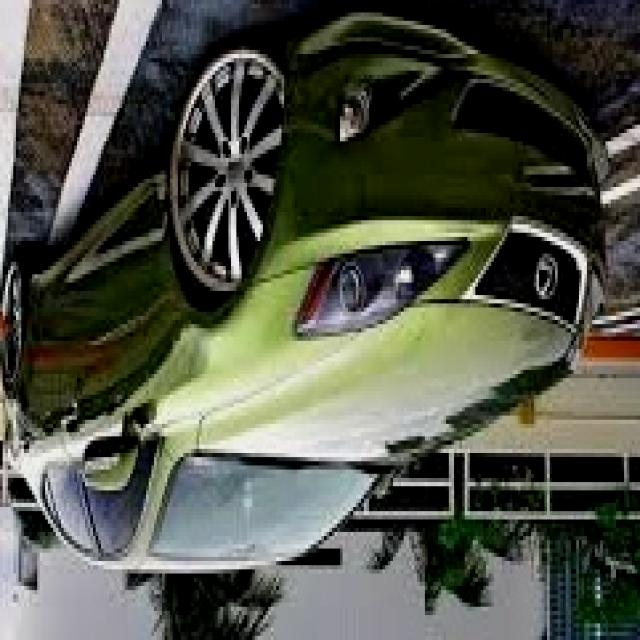green: (0, 4, 608, 578)
